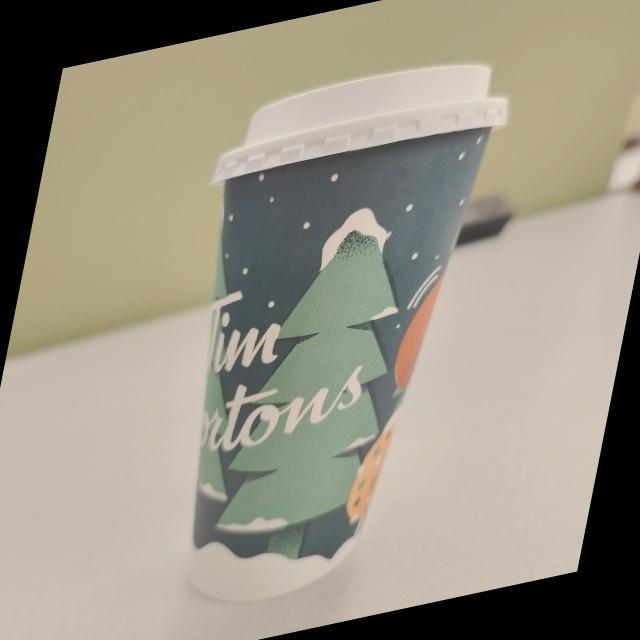timmies: (121, 36, 539, 632)
